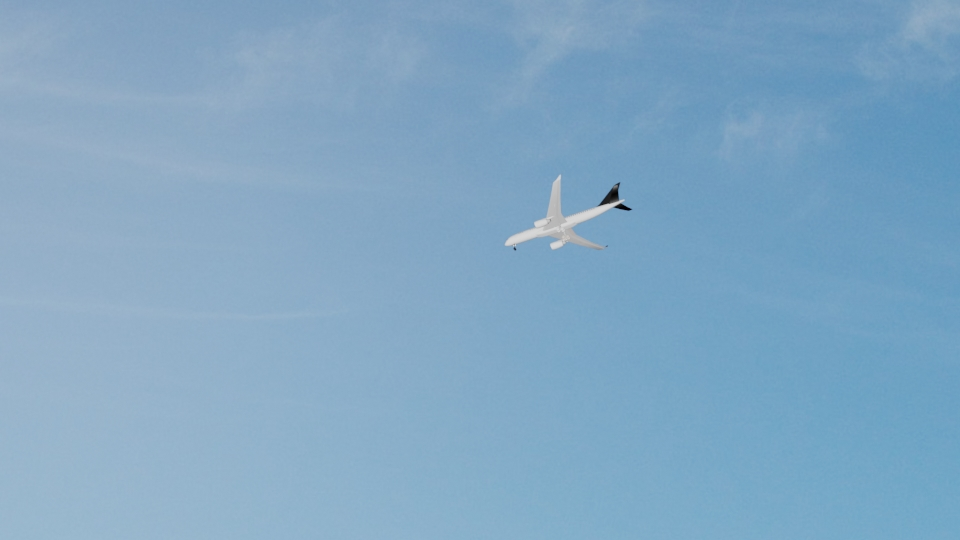plane: (503, 172, 632, 254)
